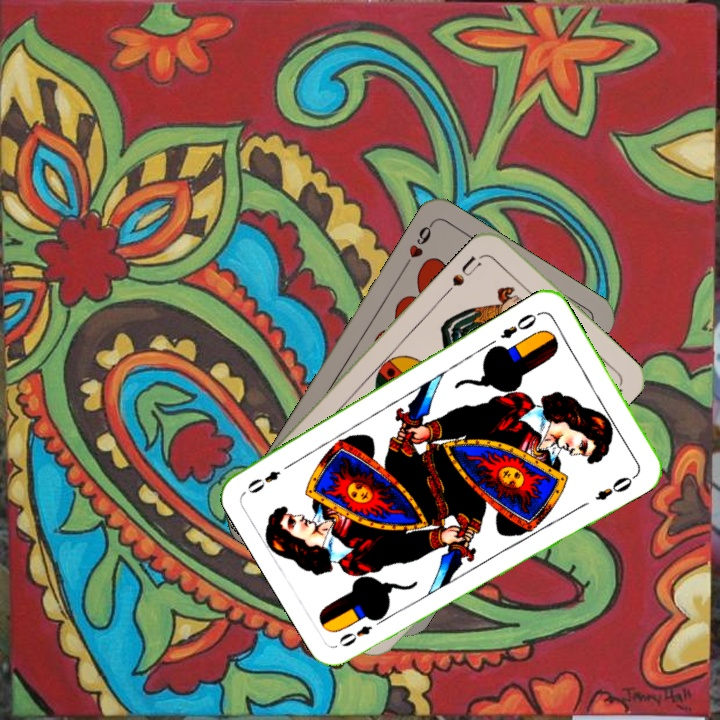EO: (496, 307, 544, 342), (335, 621, 375, 650)
H9: (399, 219, 436, 272)
SU: (448, 251, 484, 289)
